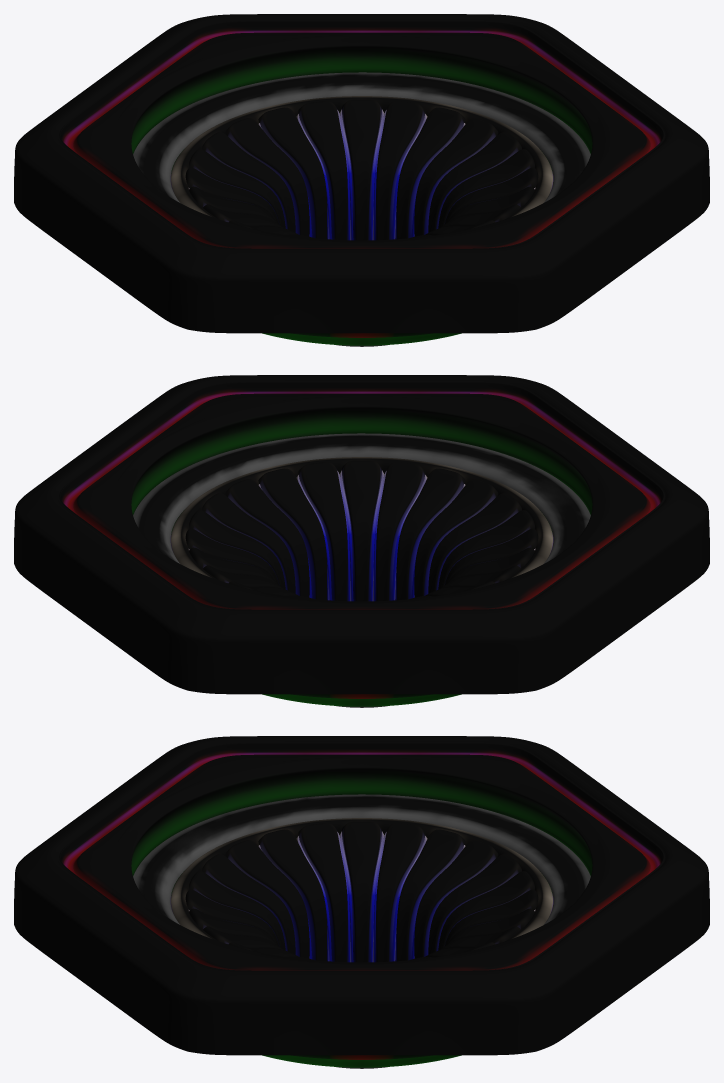
The model's file is orbiter32.gltf.
3 renders of one model, top to bottom at view 1: azimuth 30°, elevation 25°; view 2: azimuth 150°, elevation 25°; view 3: azimuth 270°, elevation 25°, orthographic.
Parts seen in each view (by area): view 1: outside, flower, top_ring; view 2: outside, flower, top_ring; view 3: outside, flower, top_ring.
Boxes of the visible parts, left/top/right/bottom form: outside: left=14, top=14, right=709, bottom=345; flower: left=185, top=99, right=538, bottom=240; top_ring: left=133, top=72, right=590, bottom=202; outside: left=14, top=375, right=709, bottom=706; flower: left=185, top=460, right=538, bottom=601; top_ring: left=133, top=433, right=590, bottom=563; outside: left=14, top=736, right=709, bottom=1067; flower: left=185, top=821, right=538, bottom=962; top_ring: left=133, top=794, right=590, bottom=924.
Size of the model in its own units: 1.53 by 0.5327 by 1.72.
